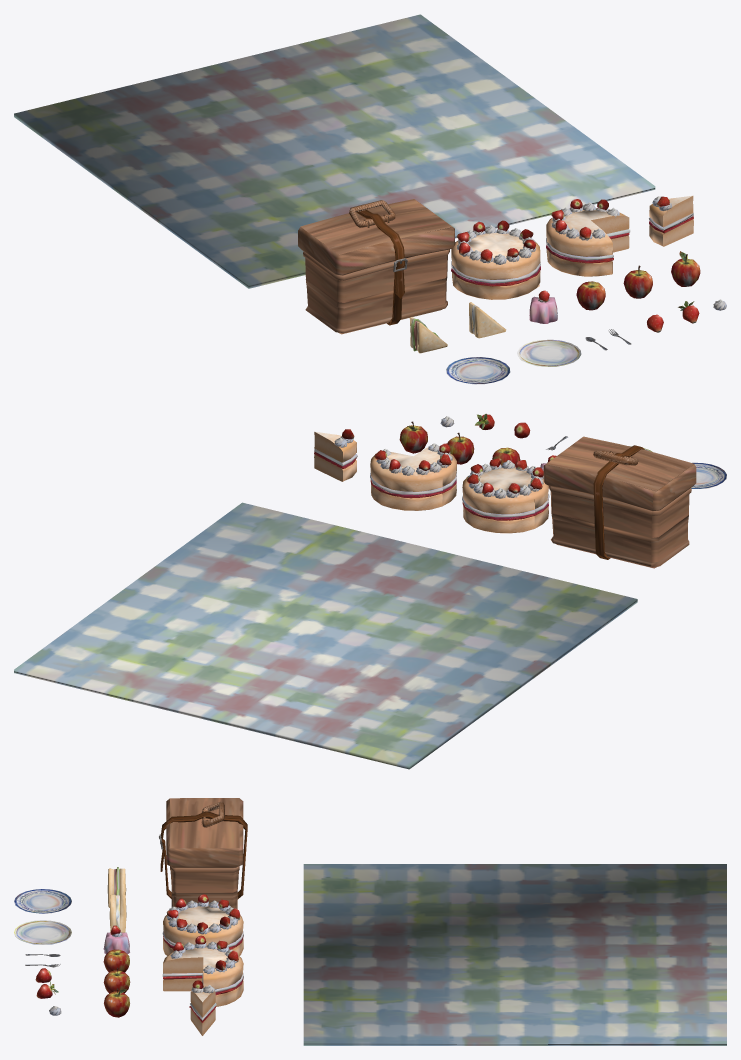
Rendered from stylised-picnic-prop-set-041e1e.glb.
The picture shows the model from 3 angles, top to bottom: view 1: azimuth 30°, elevation 25°; view 2: azimuth 150°, elevation 25°; view 3: azimuth 270°, elevation 25°; orthographic projection. The views are drawn at different scales.
Visible parts, largest first — view 1: PropMesh; view 2: PropMesh; view 3: PropMesh.
Boxes of the visible parts, left/top/right/bottom form: PropMesh: left=14, top=14, right=726, bottom=384; PropMesh: left=14, top=413, right=726, bottom=769; PropMesh: left=14, top=798, right=726, bottom=1045.
Size of the model in its own units: 1.44 by 0.3493 by 2.43.
5 materials, 5 textured.
